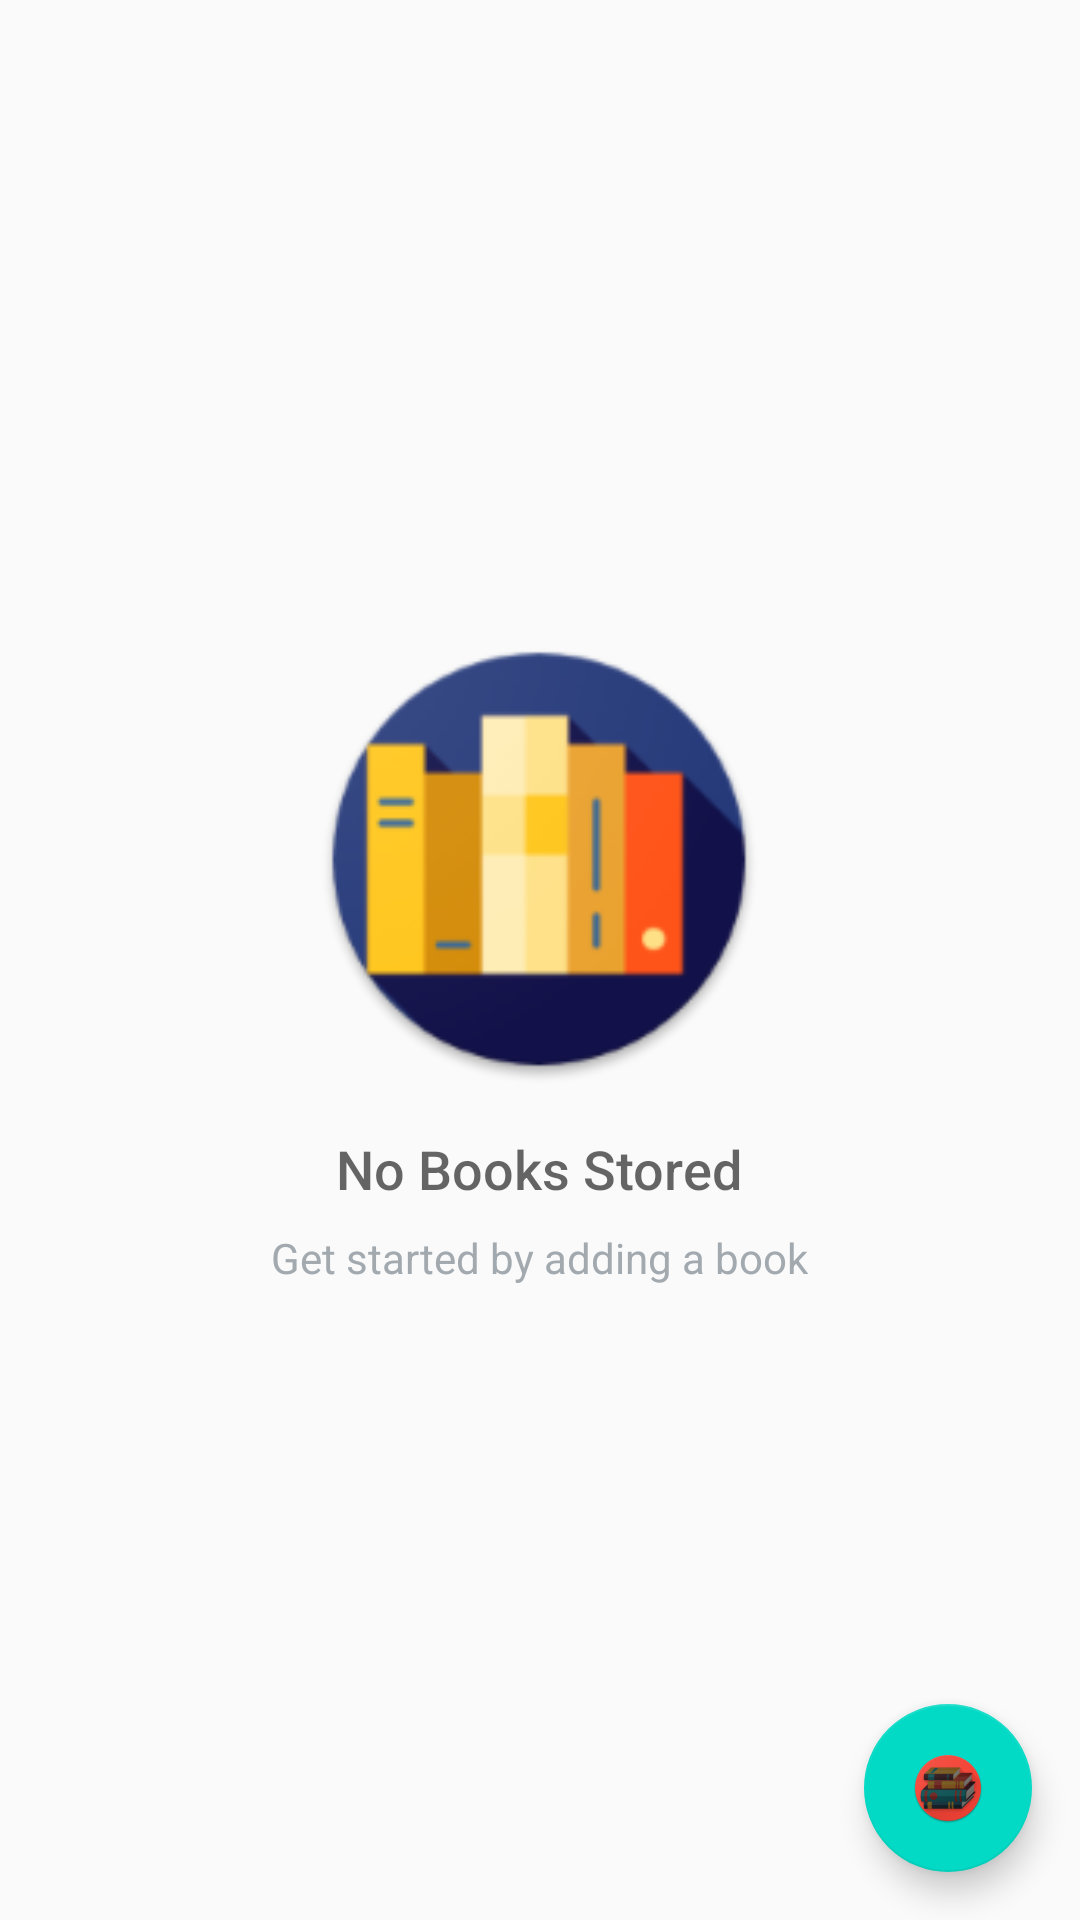

Screen size 1080px x 1920px. Icon name, then its center in pixels as [x,y]:
book entry: [948,1788]
